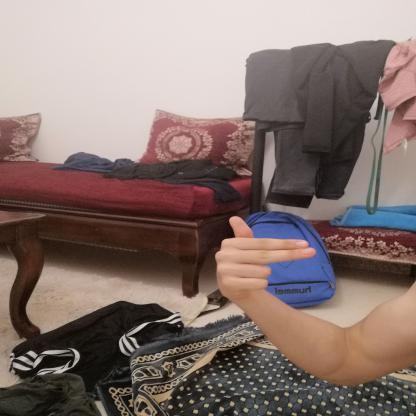GHAYN: (201, 208, 324, 305)
